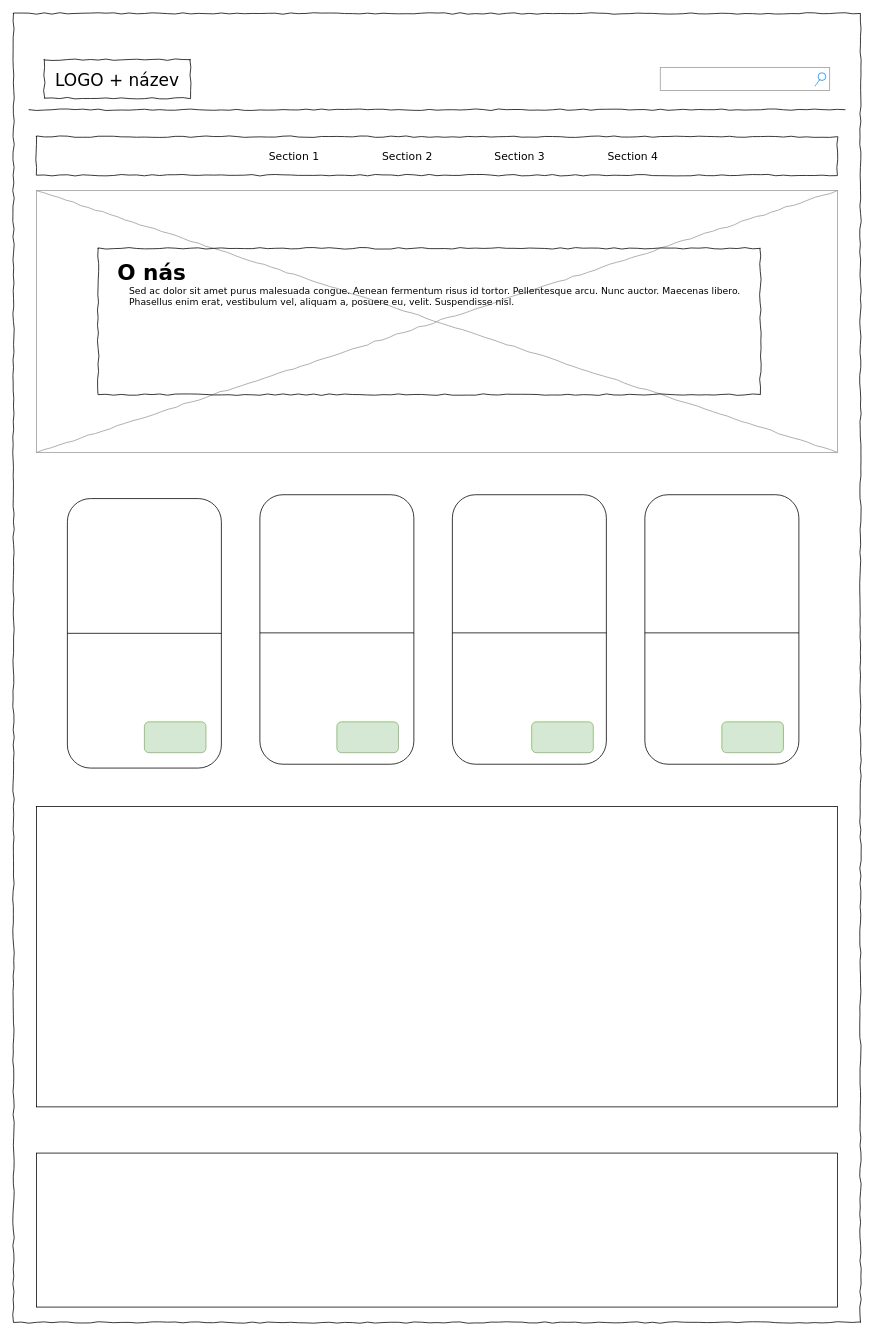
Some shapes in this 874 by 1336 pixel diagram are drawn without their labels. Each missing label, with the centre of its shape:
"Footer" goes at [436,1229].
"Search" goes at [745,78].
